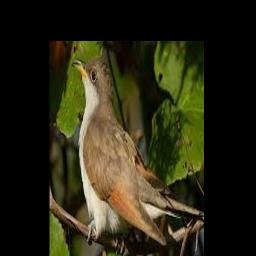Cuckoo: (72, 59, 180, 245)
